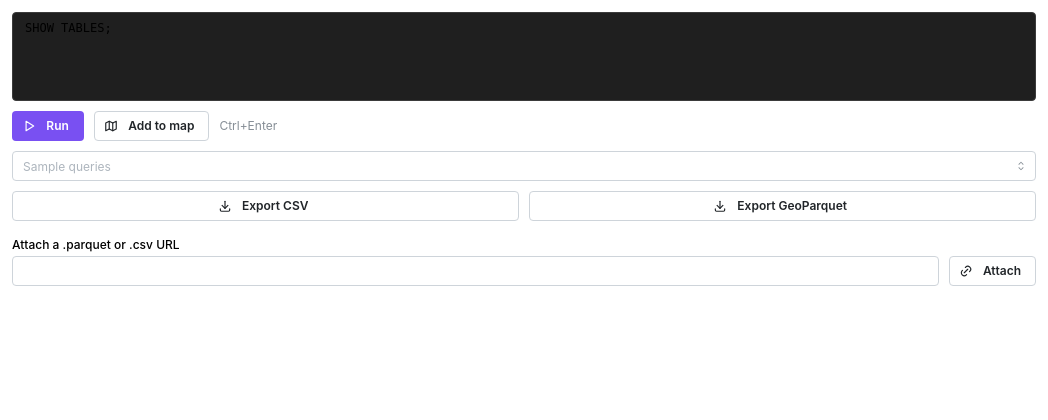
Test: SqlWorkspaceTab › shows the rows a query returns
Step 1. Replace the text in the text box with test id "sql-editor" with "SELECT * FROM cities" → (524, 56), box [12,12,1036,101]
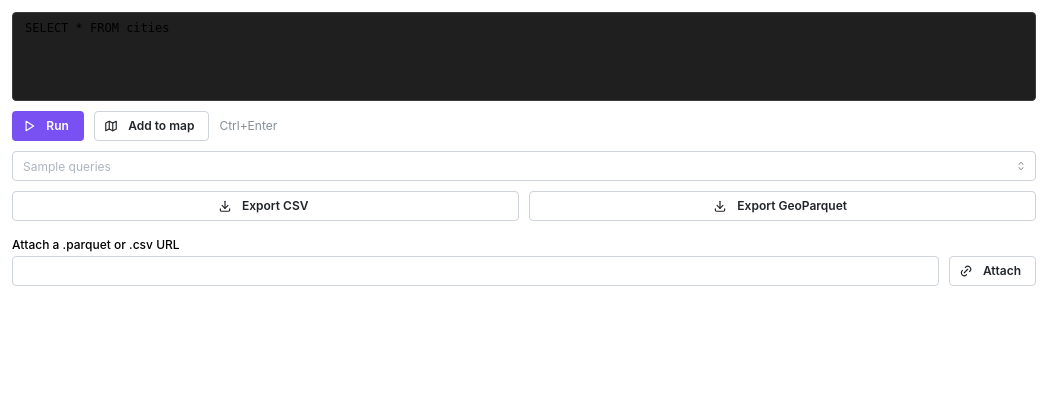
Step 2. Click the button with test id "sql-run" → click(48, 126), box [12,111,84,141]
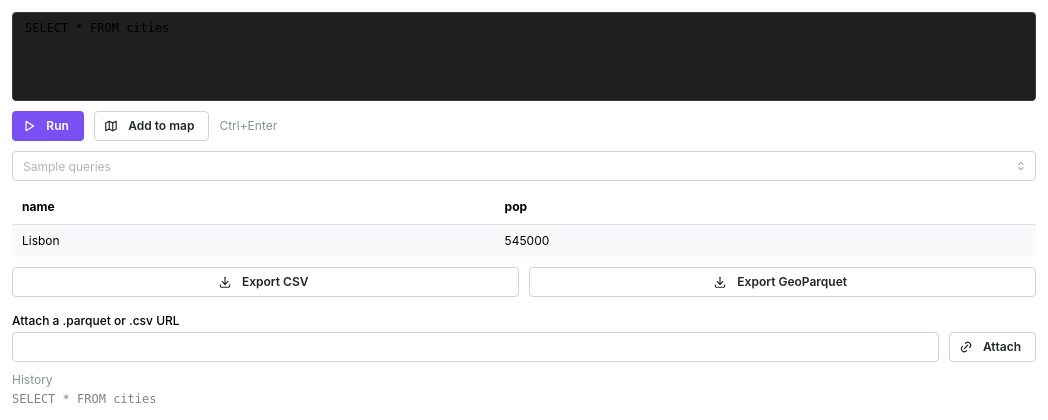
Now the table with test id "sql-results" is shown, box [12,191,1036,257]
Now the text "Lisbon" is shown, box [12,224,495,257]
Now the text "545000" is shown, box [495,224,1036,257]
